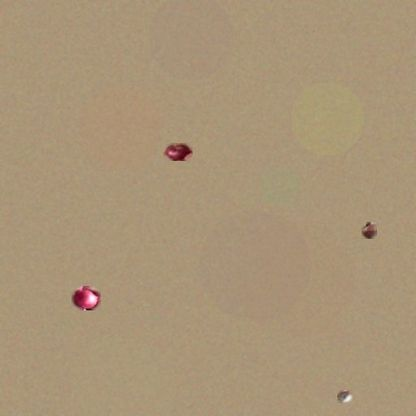healthy: (72, 286, 101, 310), (163, 143, 193, 161)
rotten: (337, 390, 353, 403)
sprouted: (362, 222, 377, 239)
